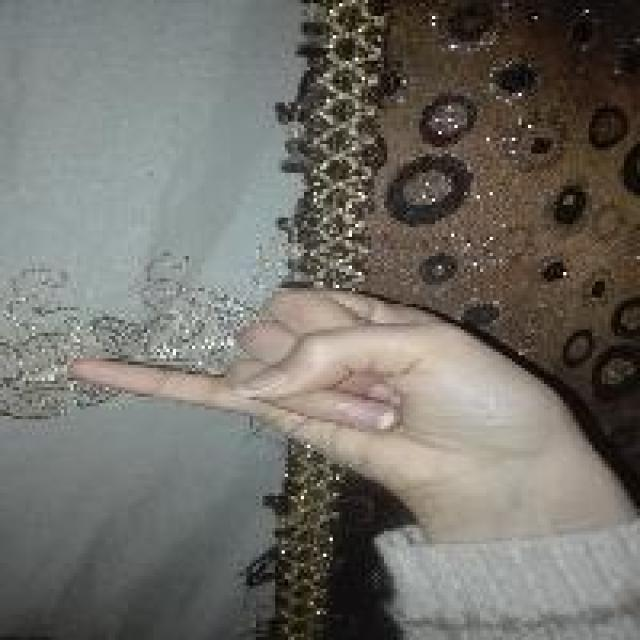J: (61, 280, 563, 510)
